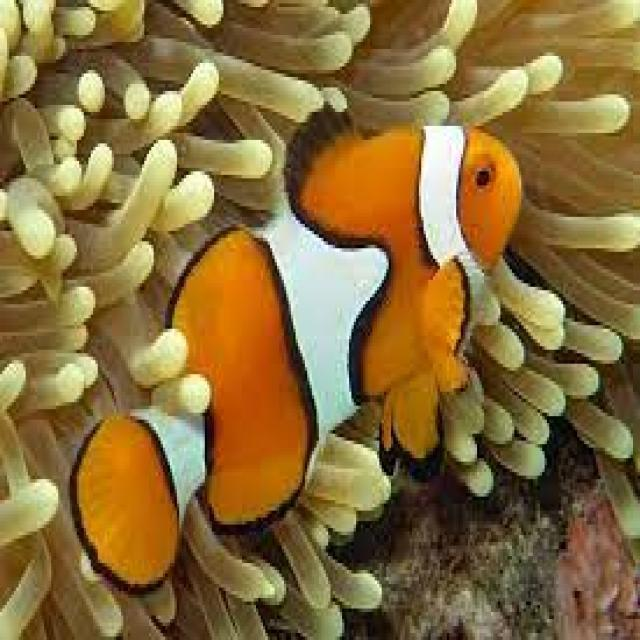ClownFish: (73, 110, 528, 596)
